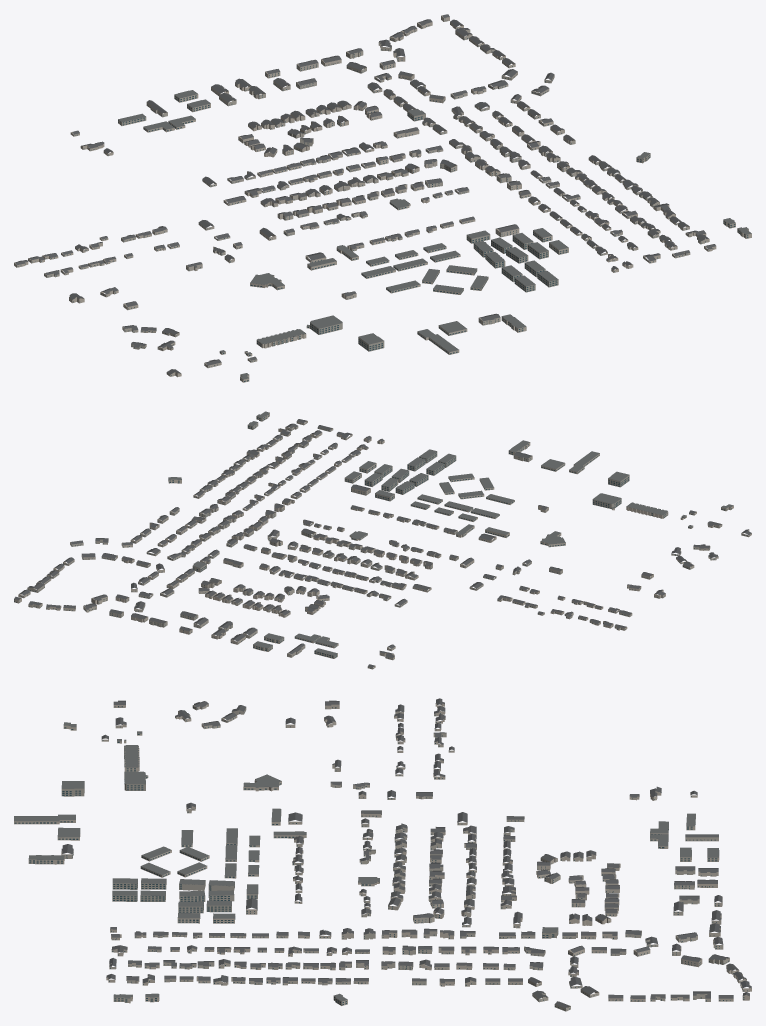
3 renders of one model, top to bottom at view 1: azimuth 30°, elevation 25°; view 2: azimuth 150°, elevation 25°; view 3: azimuth 270°, elevation 25°, orthographic. The views are drawn at different scales.
Visible parts, largest first — view 1: Buildings (-1, 6) Roof shingles, Buildings (-1, 6) Masonry brick, Buildings (-1, 6) Roof membrane, Buildings (-1, 6) House siding, Buildings (-1, 6) Architectural tinted glass, Buildings (-1, 6) Architectural concrete; view 2: Buildings (-1, 6) Roof shingles, Buildings (-1, 6) Masonry brick, Buildings (-1, 6) Roof membrane, Buildings (-1, 6) House siding, Buildings (-1, 6) Architectural tinted glass, Buildings (-1, 6) Architectural concrete; view 3: Buildings (-1, 6) Roof shingles, Buildings (-1, 6) Masonry brick, Buildings (-1, 6) Roof membrane, Buildings (-1, 6) House siding, Buildings (-1, 6) Architectural tinted glass, Buildings (-1, 6) Architectural concrete, Buildings (-1, 6) Metal coping.
Boxes of the visible parts, <box> form: Buildings (-1, 6) Roof shingles: <box>15,14,715,374</box>; Buildings (-1, 6) Masonry brick: <box>14,15,751,382</box>; Buildings (-1, 6) Roof membrane: <box>118,90,751,379</box>; Buildings (-1, 6) House siding: <box>44,29,709,349</box>; Buildings (-1, 6) Architectural tinted glass: <box>14,16,748,381</box>; Buildings (-1, 6) Architectural concrete: <box>310,111,558,351</box>; Buildings (-1, 6) Roof shingles: <box>14,419,751,667</box>; Buildings (-1, 6) Masonry brick: <box>14,413,751,669</box>; Buildings (-1, 6) Roof membrane: <box>168,411,733,655</box>; Buildings (-1, 6) House siding: <box>27,426,718,657</box>; Buildings (-1, 6) Architectural tinted glass: <box>14,414,747,668</box>; Buildings (-1, 6) Architectural concrete: <box>192,452,629,572</box>; Buildings (-1, 6) Roof shingles: <box>61,698,751,1008</box>; Buildings (-1, 6) Masonry brick: <box>14,701,751,1005</box>; Buildings (-1, 6) Roof membrane: <box>14,722,719,1001</box>; Buildings (-1, 6) House siding: <box>61,704,729,1011</box>; Buildings (-1, 6) Architectural tinted glass: <box>14,704,747,1009</box>; Buildings (-1, 6) Architectural concrete: <box>61,773,558,938</box>; Buildings (-1, 6) Metal coping: <box>14,722,718,999</box>.
Size of the model in its own units: 1017 by 20.13 by 1028.
